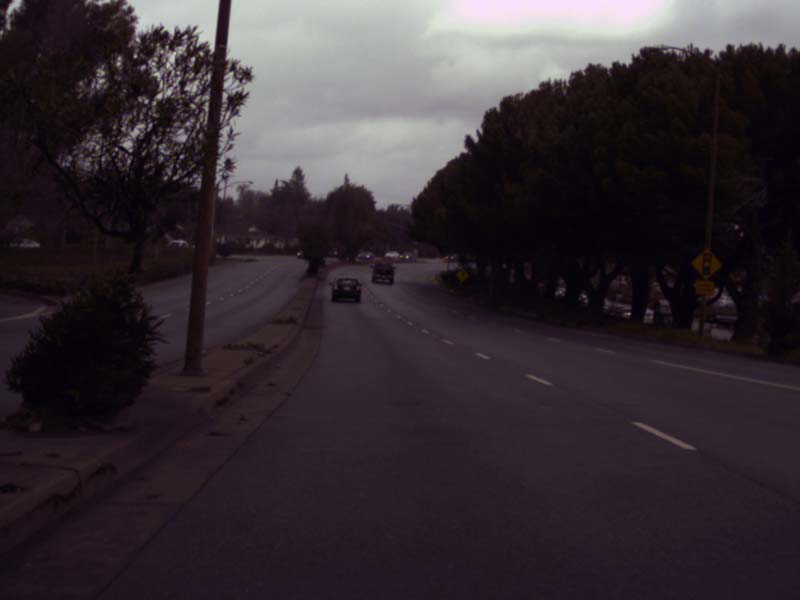Green: (413, 238, 418, 245)
Red: (445, 252, 449, 260)
